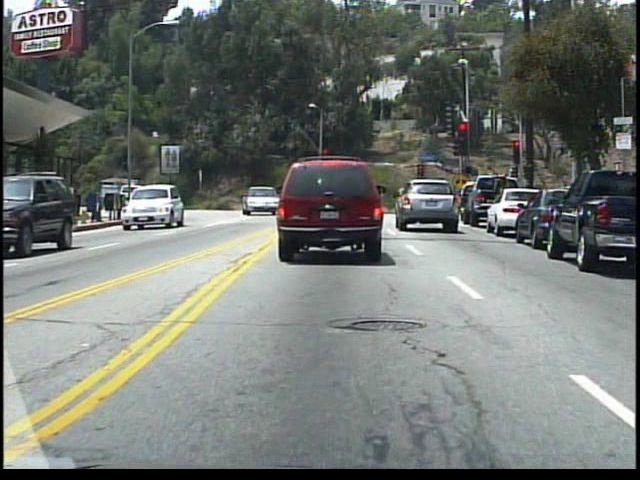person: (301, 186, 318, 212)
